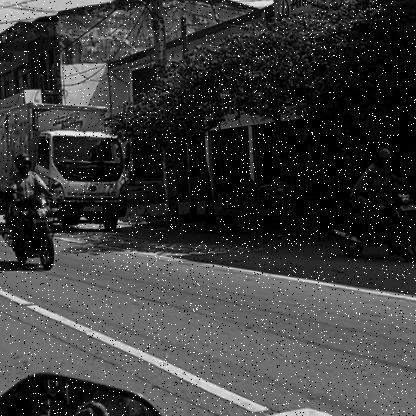motorcycle: (0, 193, 62, 273)
